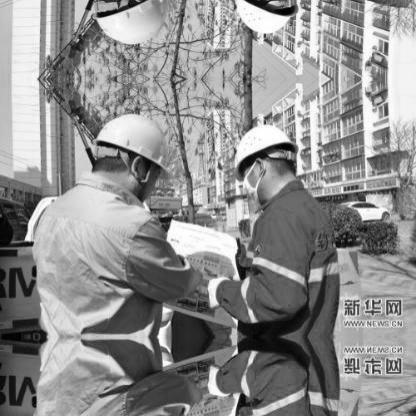helmet: (87, 104, 179, 202), (227, 117, 305, 200), (87, 0, 180, 55), (227, 0, 306, 42)
